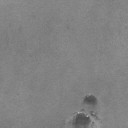iron sheet ash: (74, 112, 91, 128), (83, 94, 96, 104), (90, 110, 96, 116)
